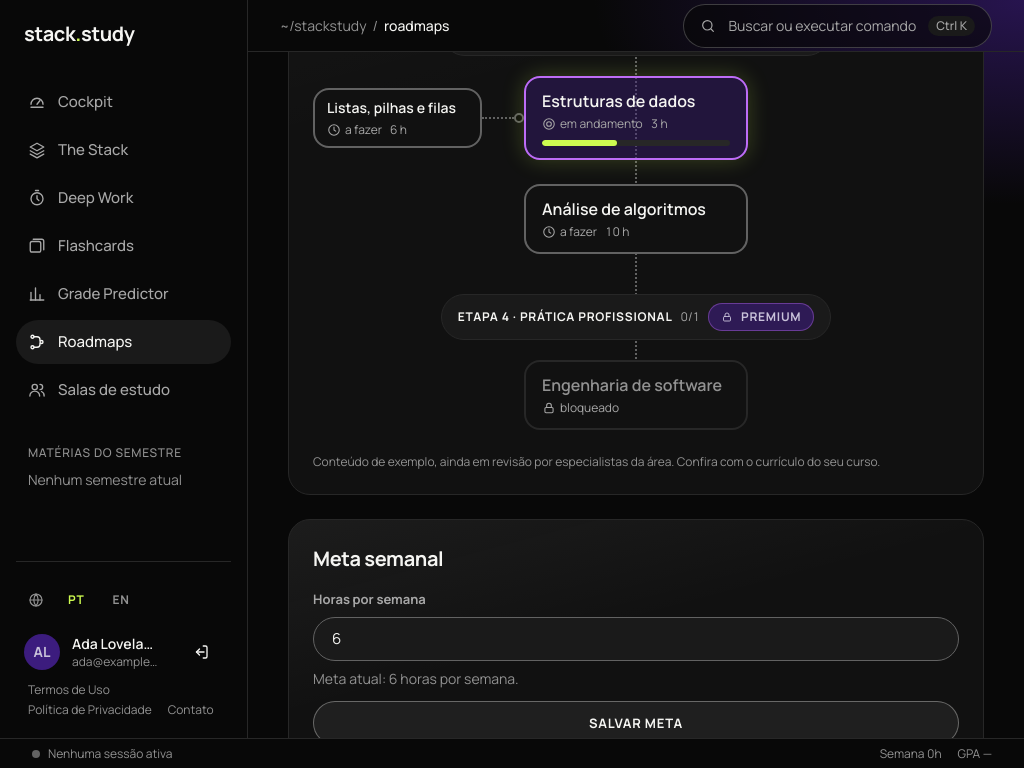
Test: Roadmaps › nó bloqueado mostra o cadeado e "Ver planos" desativado
The image size is (1024, 768).
(page scrolled)
Click the button with aria-label "Engenharia de software, bloqueado" at (636, 395), box [524,360,748,430]
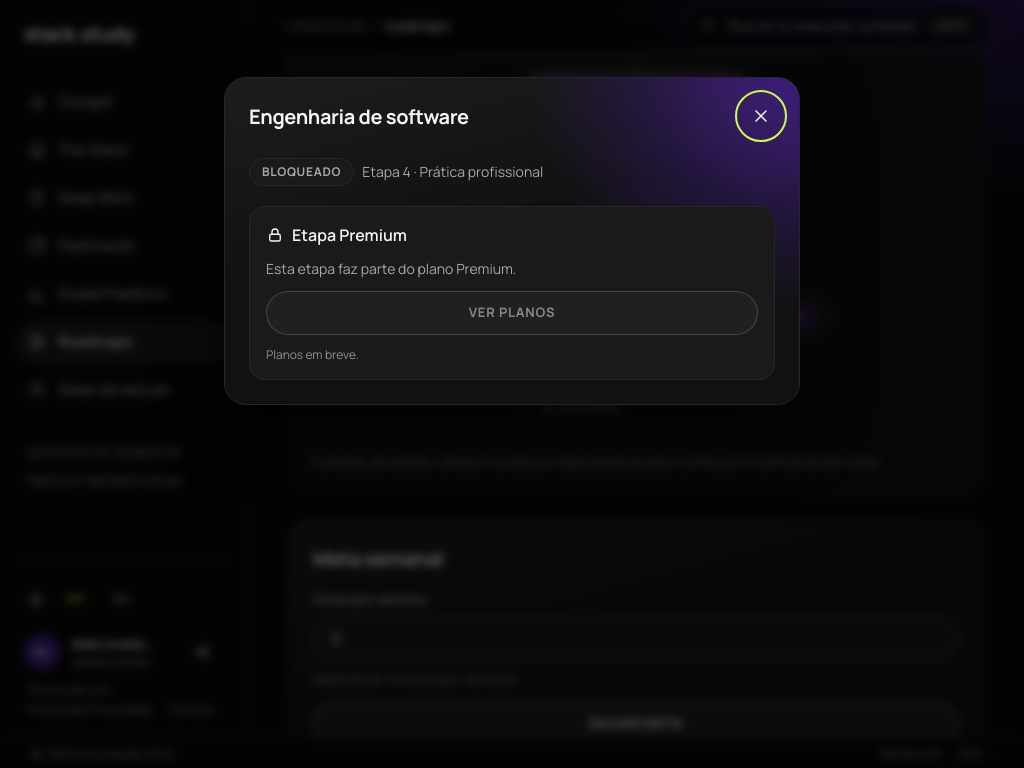
Check: the text "Etapa Premium" is shown, box [266,224,407,246]
Check: the button "Ver planos" is disabled, box [266,291,758,335]
